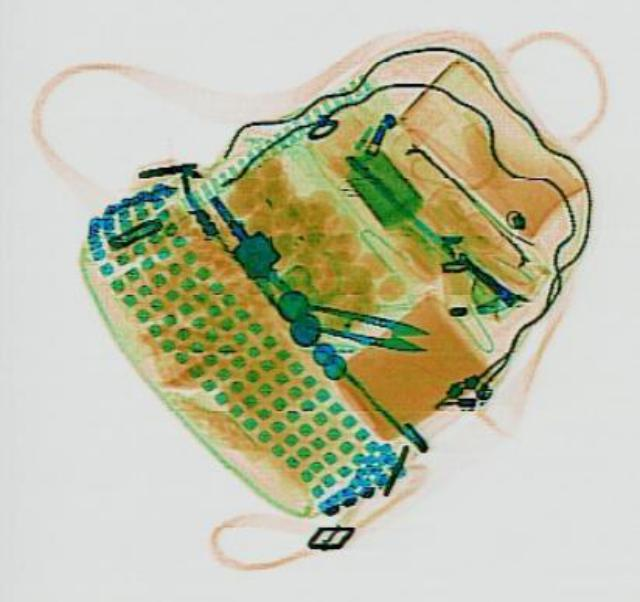Scissors: (290, 298, 432, 354)
